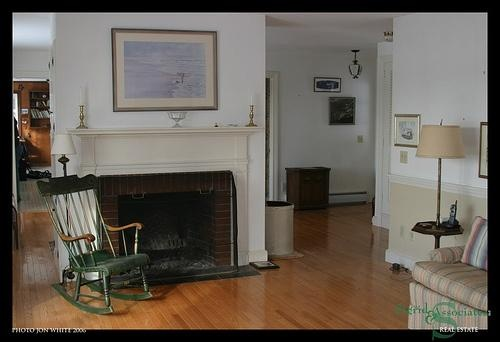chair: (35, 175, 157, 315)
sofa: (409, 216, 489, 332)
